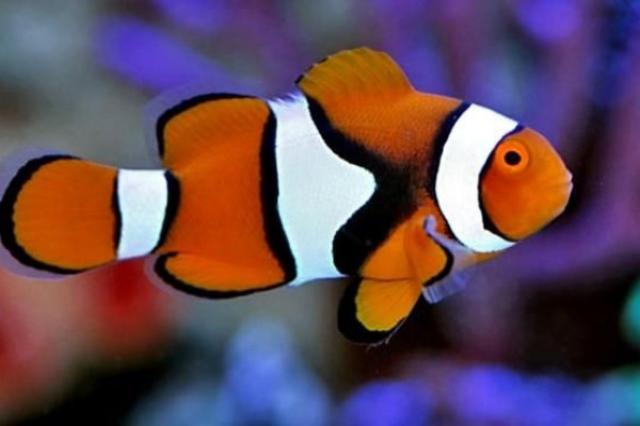Mulut: (526, 135, 592, 229)
Sirip Anal: (140, 240, 280, 318)
Sirip Dada: (396, 204, 480, 318)
Sirip Ekor: (0, 125, 124, 318)
Sirip Perut: (324, 263, 428, 356)
Sirip Punggung: (134, 34, 428, 168)
